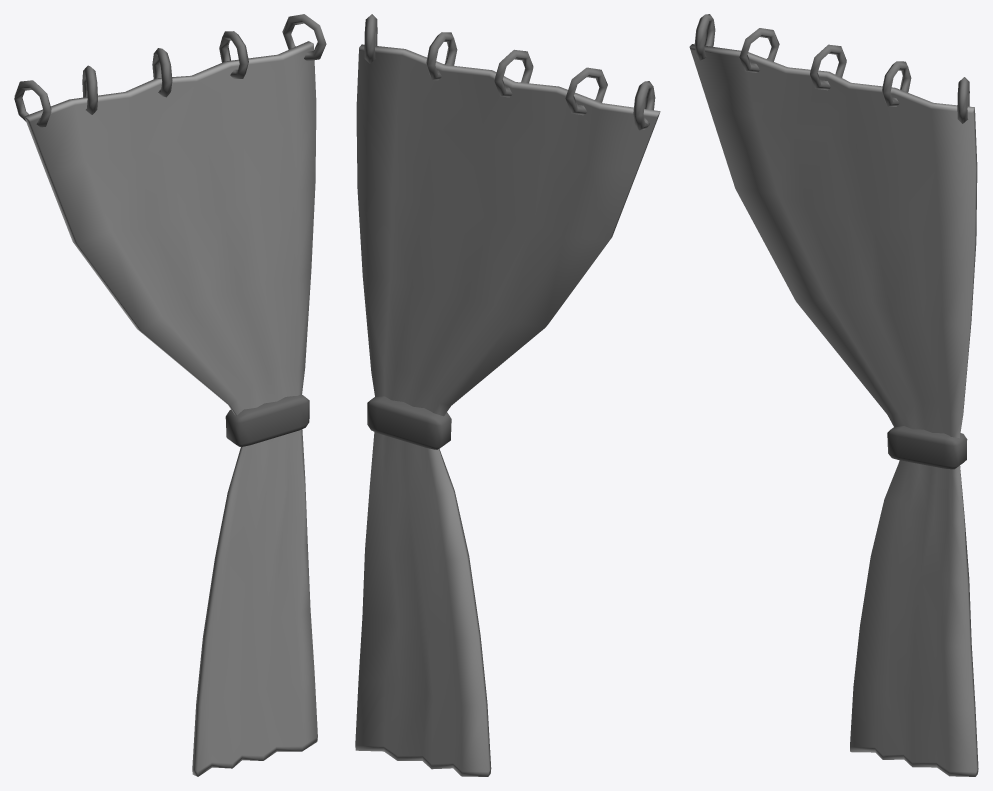
File: curtain_004.fbx
The picture shows the model from 3 angles, left to right: view 1: azimuth 30°, elevation 25°; view 2: azimuth 150°, elevation 25°; view 3: azimuth 330°, elevation 25°; orthographic projection. The views are drawn at different scales.
Parts seen in each view (by area): view 1: curtain_004; view 2: curtain_004; view 3: curtain_004.
Boxes of the visible parts, <box> form: curtain_004: <box>14,14,326,776</box>; curtain_004: <box>355,14,660,776</box>; curtain_004: <box>689,14,978,776</box>.
Bounding box in the file's own units: 147 × 22.83 × 348.
